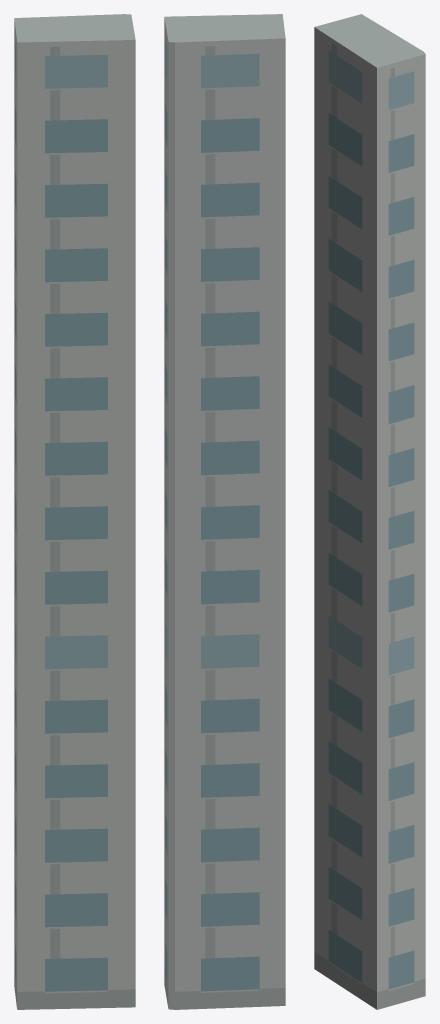
The model's file is survey-upis-32954357.glb.
3 renders of one model, left to right at view 1: azimuth 30°, elevation 25°; view 2: azimuth 210°, elevation 25°; view 3: azimuth 330°, elevation 25°, orthographic. The views are drawn at different scales.
Parts seen in each view (by area): view 1: survey-upis-32954357.tmp; view 2: survey-upis-32954357.tmp; view 3: survey-upis-32954357.tmp.
Part boxes in pixels (x1,y1,x2,y2): survey-upis-32954357.tmp: (14,14,135,1009); survey-upis-32954357.tmp: (164,14,285,1009); survey-upis-32954357.tmp: (314,14,425,1009).
Bounding box in the file's own units: 5.66 × 45.75 × 4.53.
